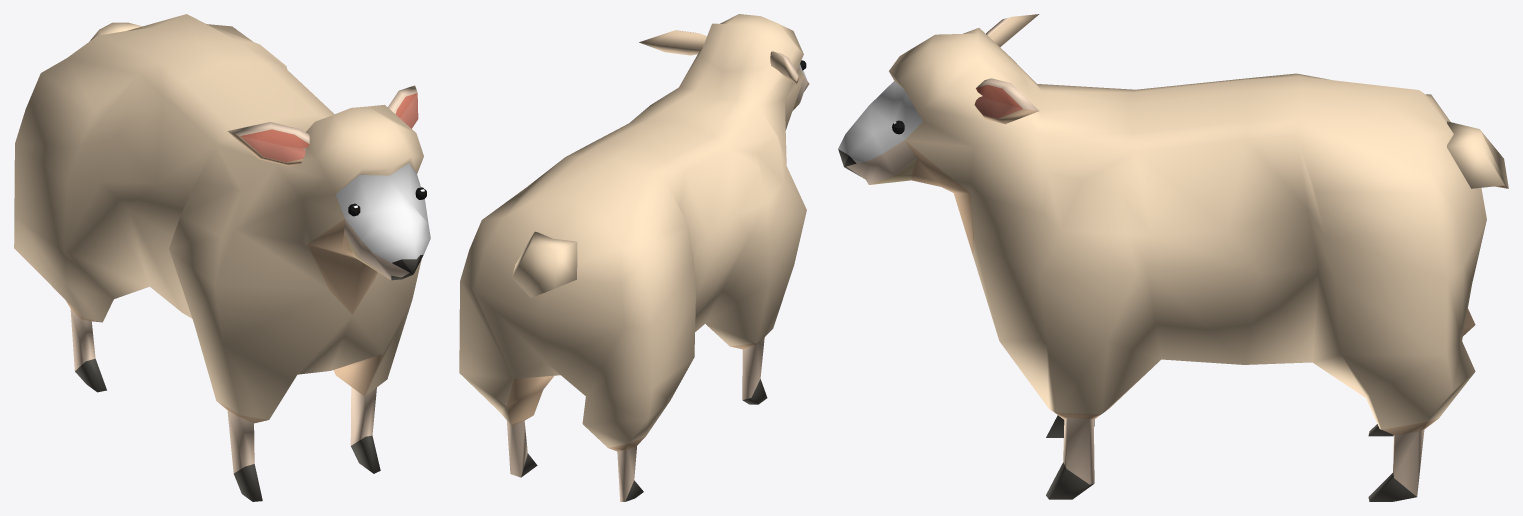
Rendered from schaf.fbx.
3 views of the same model, side by side, from view 1: azimuth 30°, elevation 25°; view 2: azimuth 150°, elevation 25°; view 3: azimuth 270°, elevation 25° (orthographic). The views are drawn at different scales.
Visible parts, largest first — view 1: SheepWhite.001; view 2: SheepWhite.001; view 3: SheepWhite.001.
Part boxes in pixels (left/top/right/bottom): SheepWhite.001: left=14, top=14, right=430, bottom=501; SheepWhite.001: left=459, top=14, right=809, bottom=501; SheepWhite.001: left=838, top=14, right=1508, bottom=501.
Size of the model in its own units: 53.2 by 89.28 by 127.
